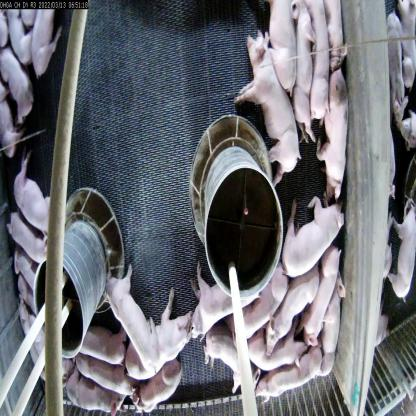Pig: (242, 36, 300, 175), (101, 264, 161, 366), (283, 188, 346, 284), (256, 267, 324, 354), (120, 297, 194, 376), (297, 241, 346, 351), (190, 260, 240, 346), (253, 348, 327, 406), (320, 66, 350, 203), (238, 258, 285, 344), (206, 336, 262, 400), (132, 365, 194, 416), (21, 314, 65, 385), (321, 268, 345, 396), (239, 329, 304, 376), (292, 0, 314, 130), (268, 0, 300, 89), (23, 4, 59, 81), (18, 155, 52, 233), (76, 323, 124, 374), (0, 39, 30, 120), (79, 354, 134, 398), (7, 206, 48, 261), (67, 382, 130, 416), (310, 0, 326, 126)
